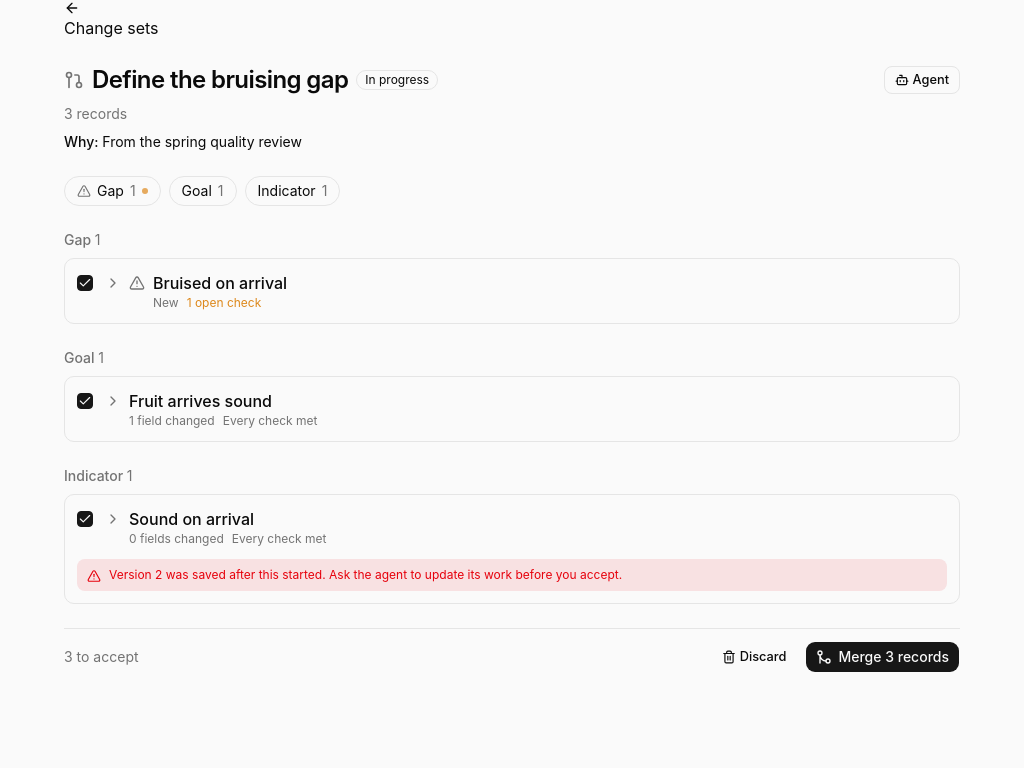
Test: a change set's review › hands an open change set of mine to an agent, by its id
Click the button with aria-label "Ask an agent to help with this change set": (922, 80) 884,66 -> 960,94
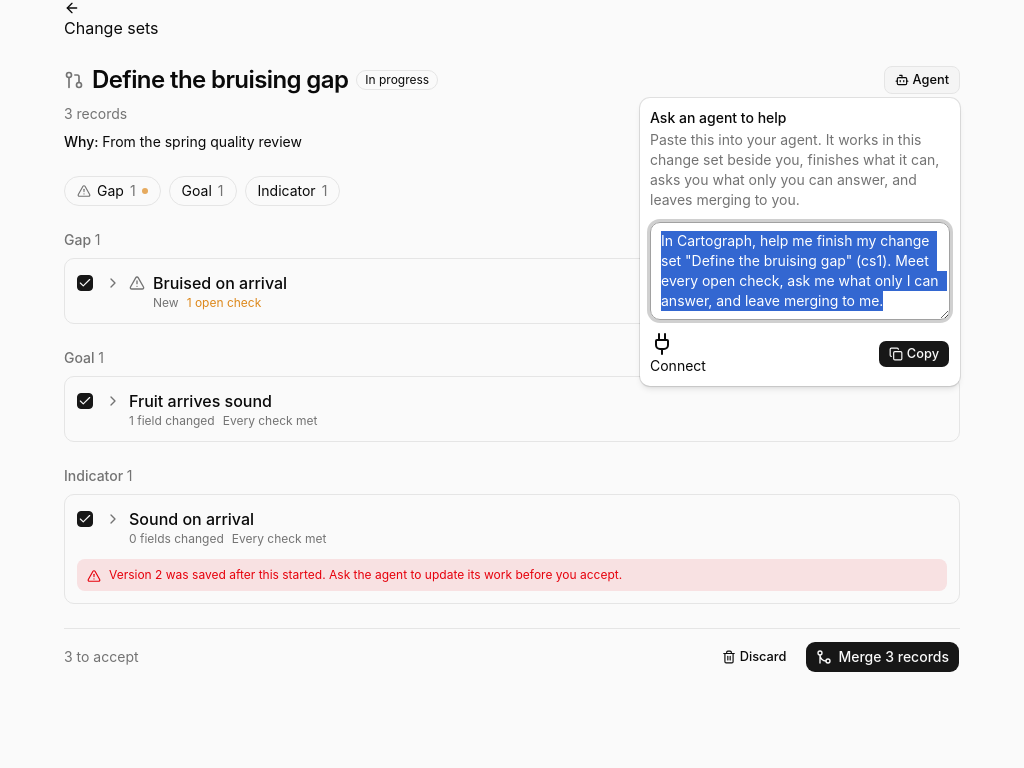
Click the button with aria-label "Copy the request": (914, 354) 878,340 -> 950,368
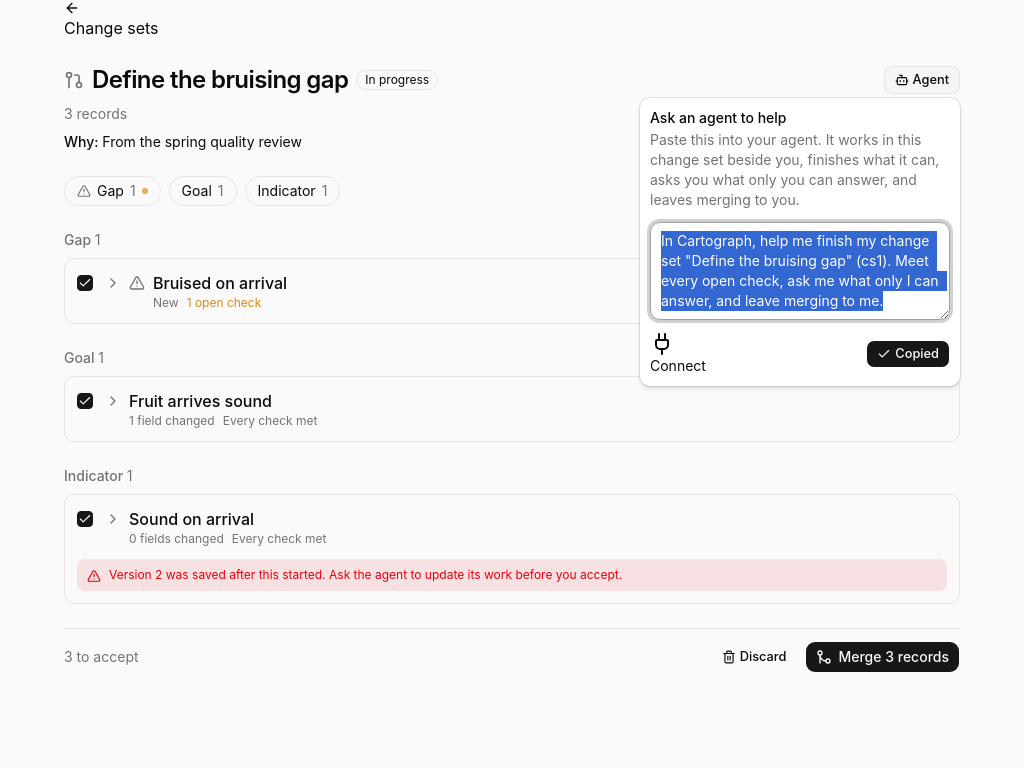
Check: the button "Copied" is shown, box 866,340 -> 950,368
